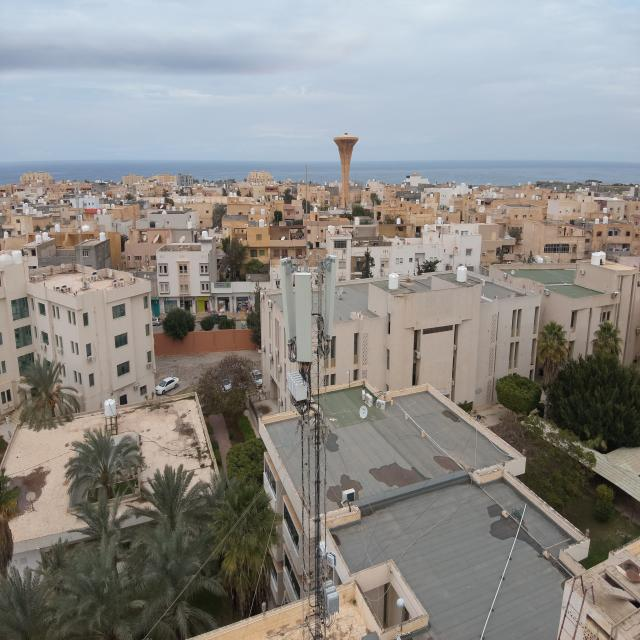antenna: (294, 272, 313, 364), (280, 256, 296, 346), (322, 253, 338, 339)
lighnig-rad: (305, 165, 310, 260)
microware-dish: (314, 538, 339, 569)
power-box: (322, 577, 341, 615)
radio-unit: (286, 368, 309, 404)
